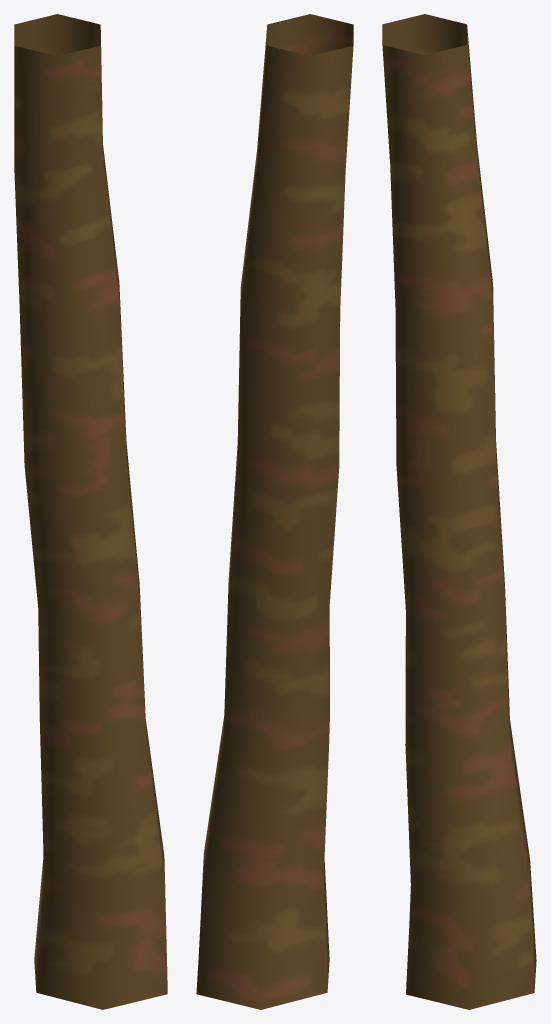
File: wood_1.fbx
3 renders of one model, left to right at view 1: azimuth 30°, elevation 25°; view 2: azimuth 150°, elevation 25°; view 3: azimuth 330°, elevation 25°, orthographic. The views are drawn at different scales.
Parts seen in each view (by area): view 1: wood; view 2: wood; view 3: wood.
Boxes of the visible parts, x1,y1,x2,y2 form: wood: (14,14,167,1009); wood: (196,14,353,1009); wood: (382,14,536,1009).
Size of the model in its own units: 3.46 by 20.55 by 2.69.
